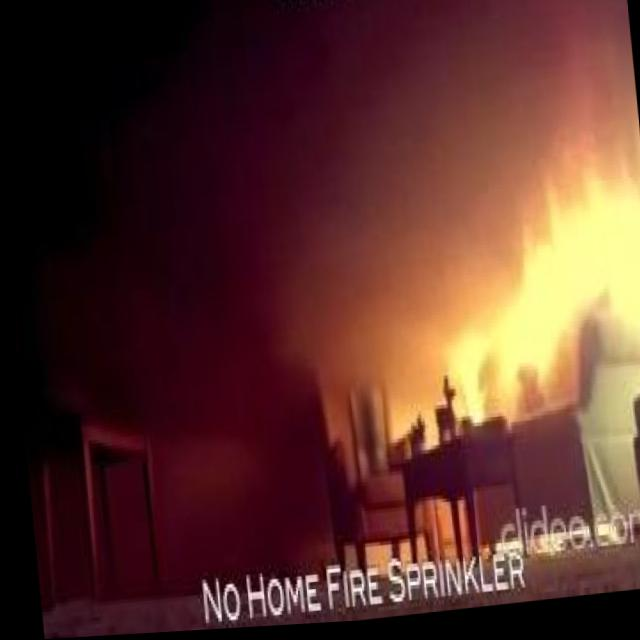fire: (474, 169, 640, 412), (443, 329, 492, 438)
